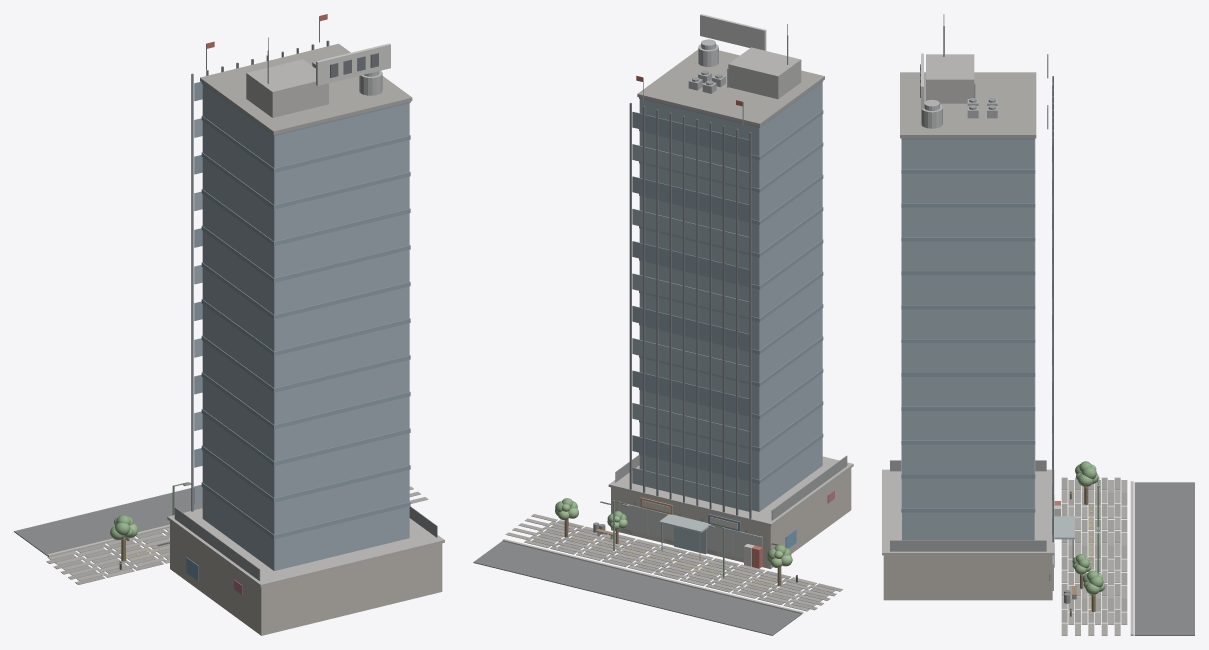
File: office_13.glb
The picture shows the model from 3 angles, left to right: view 1: azimuth 30°, elevation 25°; view 2: azimuth 150°, elevation 25°; view 3: azimuth 270°, elevation 25°; orthographic projection. The views are drawn at different scales.
Visible parts, largest first — view 1: geometry_0; view 2: geometry_0; view 3: geometry_0.
Part boxes in pixels (<box>): geometry_0: <box>14,14,444,635</box>; geometry_0: <box>473,14,853,635</box>; geometry_0: <box>882,14,1194,635</box>.
Size of the model in its own units: 31 by 47.8 by 25.95.
